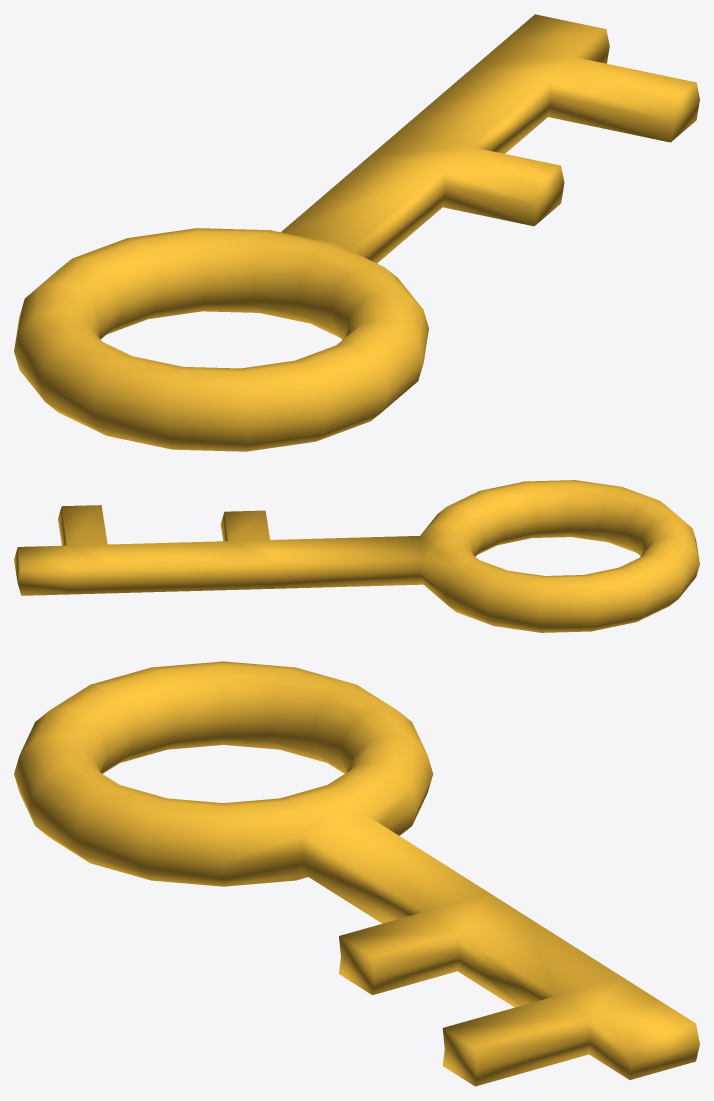
The model's file is key.glb.
The picture shows the model from 3 angles, top to bottom: view 1: azimuth 30°, elevation 25°; view 2: azimuth 150°, elevation 25°; view 3: azimuth 270°, elevation 25°; orthographic projection. The views are drawn at different scales.
Visible parts, largest first — view 1: Torus; view 2: Torus; view 3: Torus.
Part boxes in pixels (x1=…): Torus: x1=14, y1=14, x2=699, y2=451; Torus: x1=14, y1=480, x2=699, y2=632; Torus: x1=14, y1=661, x2=699, y2=1086.
Bounding box in the file's own units: 5.42 × 0.5 × 4.09.
1 material, 1 textured.
